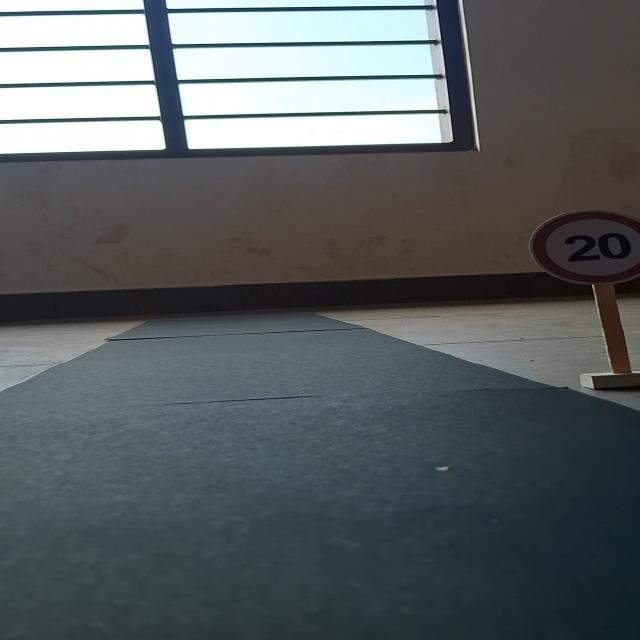Speed20: (515, 203, 640, 292)
